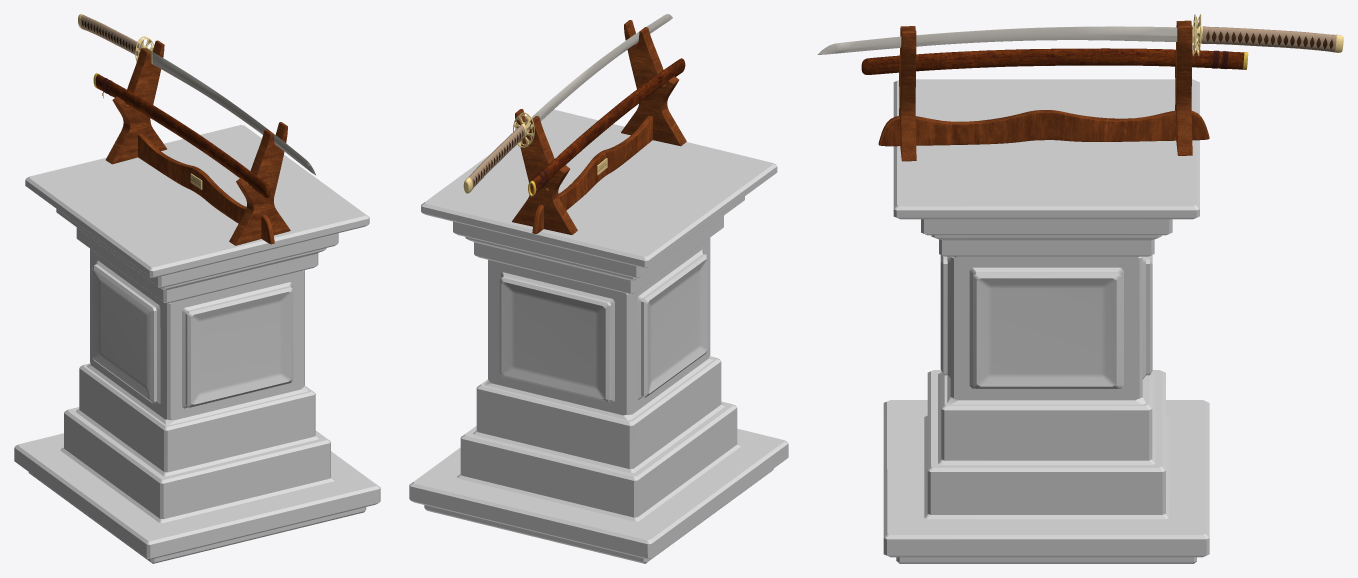
Rendered from katana2.glb.
3 renders of one model, left to right at view 1: azimuth 30°, elevation 25°; view 2: azimuth 150°, elevation 25°; view 3: azimuth 270°, elevation 25°, orthographic. The views are drawn at different scales.
Parts seen in each view (by area): view 1: Pedestal_pedestal_blinn_0, Cube_Side_0, Cube.002_Bottom_0, object 11, object 3, object 7; view 2: Pedestal_pedestal_blinn_0, Cube_Side_0, Cube.002_Bottom_0, object 11, object 3, object 7; view 3: Pedestal_pedestal_blinn_0, Cube.002_Bottom_0, object 11, Cube_Side_0, object 3, object 7, object 8.
Boxes of the visible parts, box(x1,y1,x2,y2) form: Pedestal_pedestal_blinn_0: box(14, 125, 380, 563); Cube_Side_0: box(106, 40, 290, 245); Cube.002_Bottom_0: box(138, 133, 274, 244); object 11: box(95, 74, 270, 198); object 3: box(152, 52, 315, 175); object 7: box(83, 16, 139, 56); Pedestal_pedestal_blinn_0: box(409, 109, 788, 563); Cube_Side_0: box(512, 20, 686, 234); Cube.002_Bottom_0: box(532, 115, 652, 233); object 11: box(530, 58, 685, 194); object 3: box(531, 14, 672, 121); object 7: box(470, 127, 522, 187); Pedestal_pedestal_blinn_0: box(883, 79, 1209, 563); Cube.002_Bottom_0: box(878, 110, 1209, 146); object 11: box(861, 48, 1244, 74); Cube_Side_0: box(899, 20, 1192, 161); object 3: box(817, 26, 1177, 54); object 7: box(1207, 26, 1331, 51); object 8: box(1206, 31, 1333, 49).
Size of the model in its own units: 9.4 by 15.69 by 15.19.
Materials: 14 (8 with a texture image).
